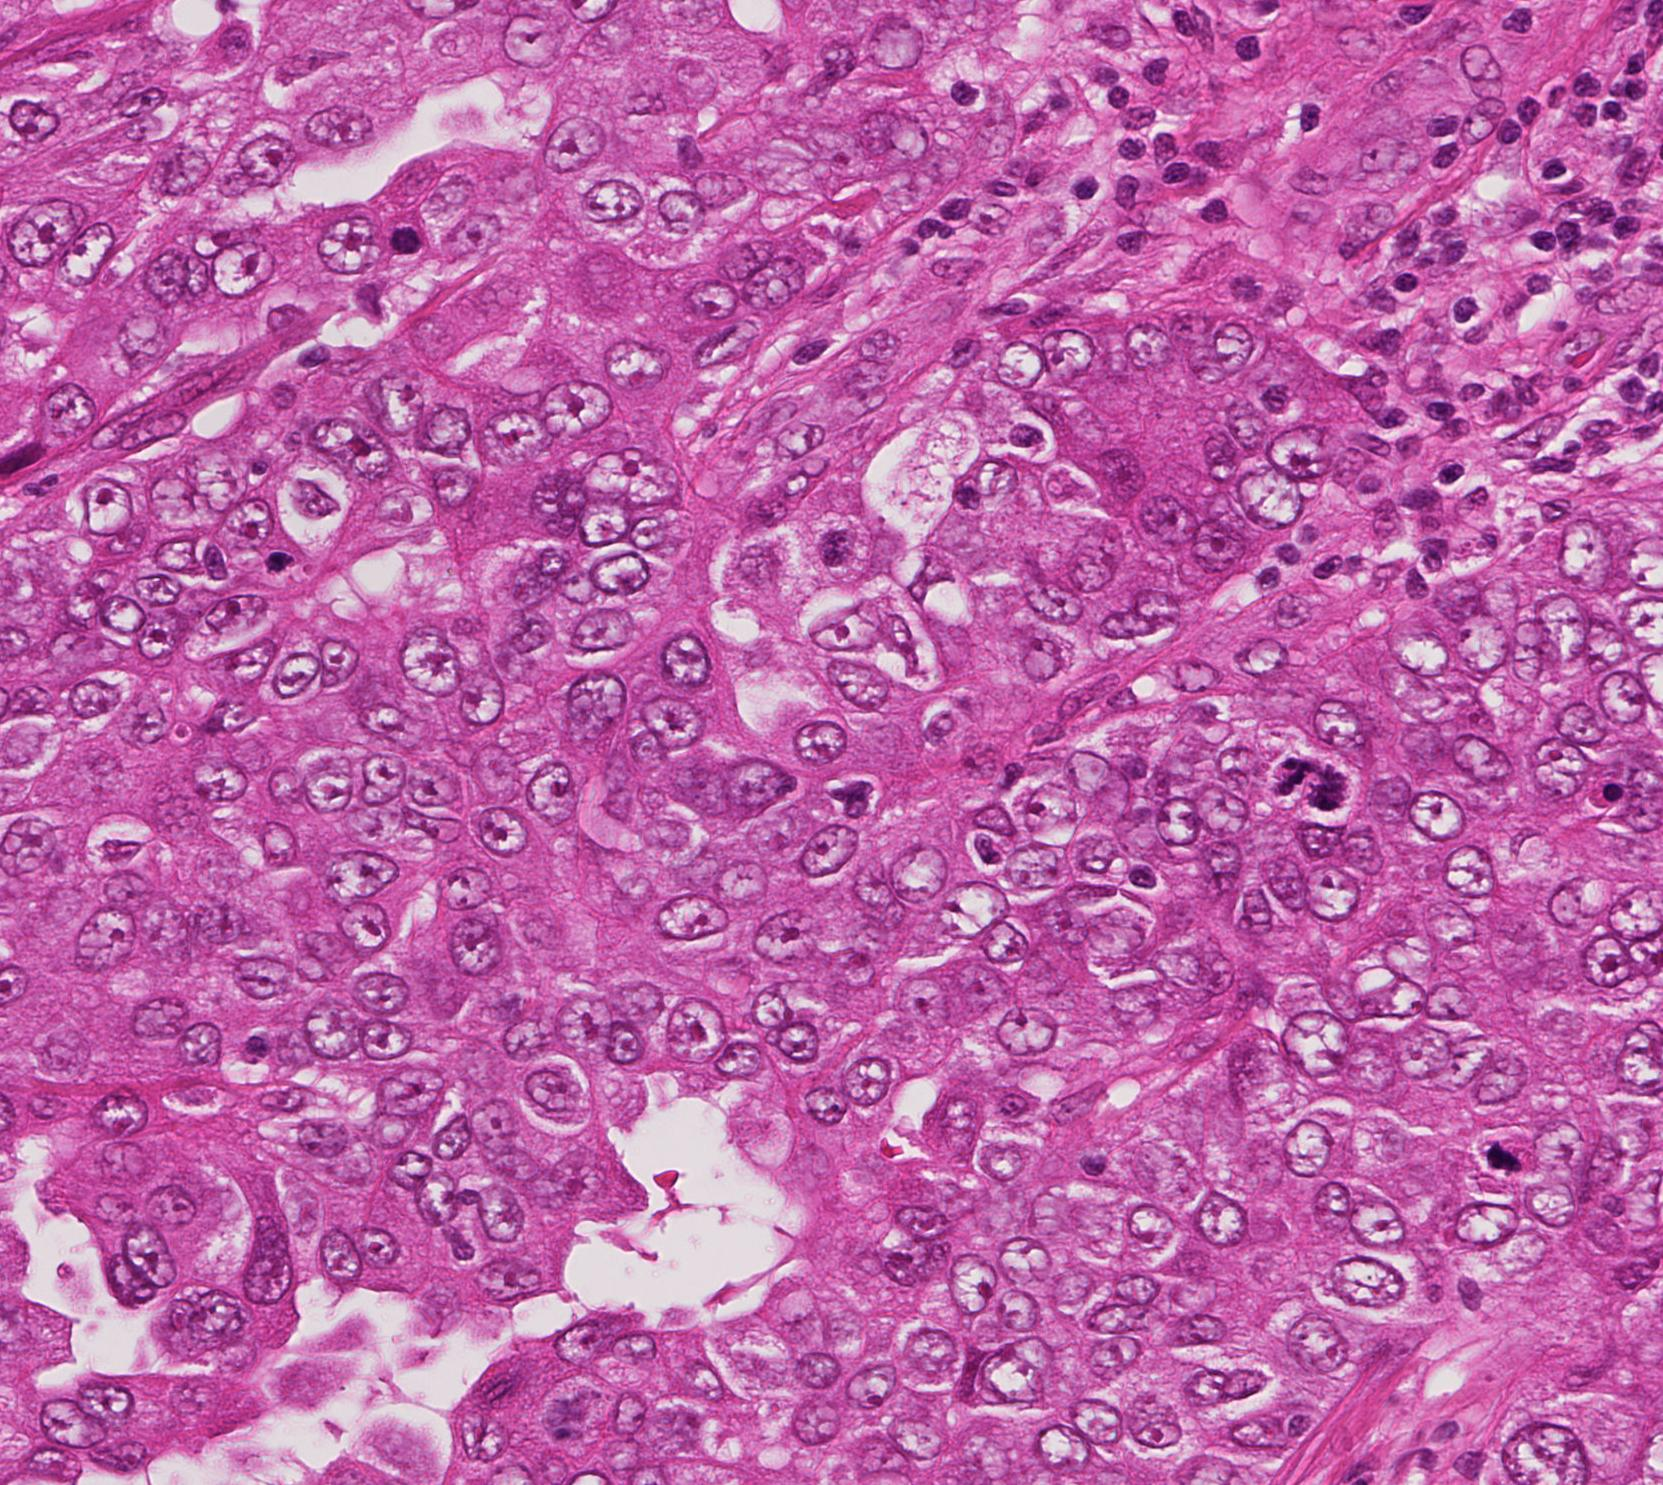mitosis: (1282, 754, 1342, 814)
